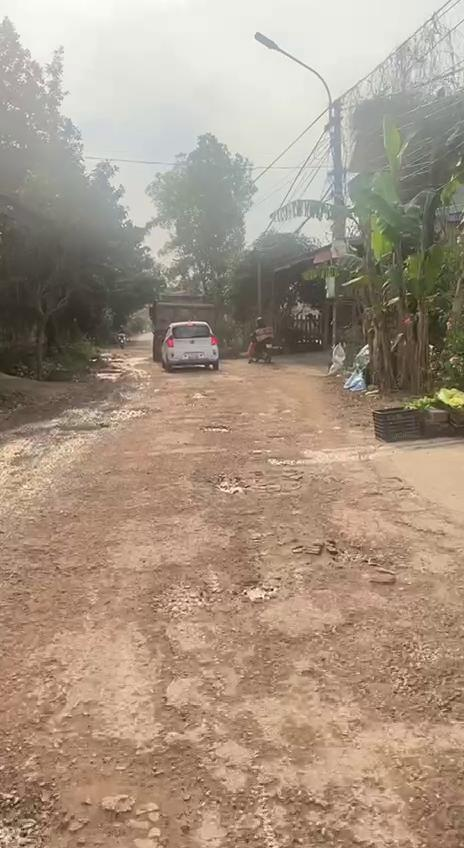pothole: (0, 745, 264, 848), (138, 556, 233, 626), (344, 540, 435, 606), (232, 578, 285, 604), (214, 474, 250, 496), (198, 424, 233, 435)
